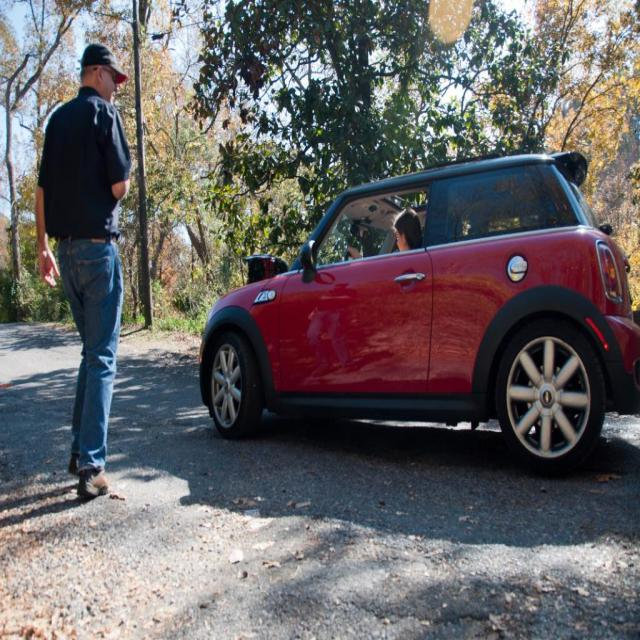car: (193, 156, 639, 472)
